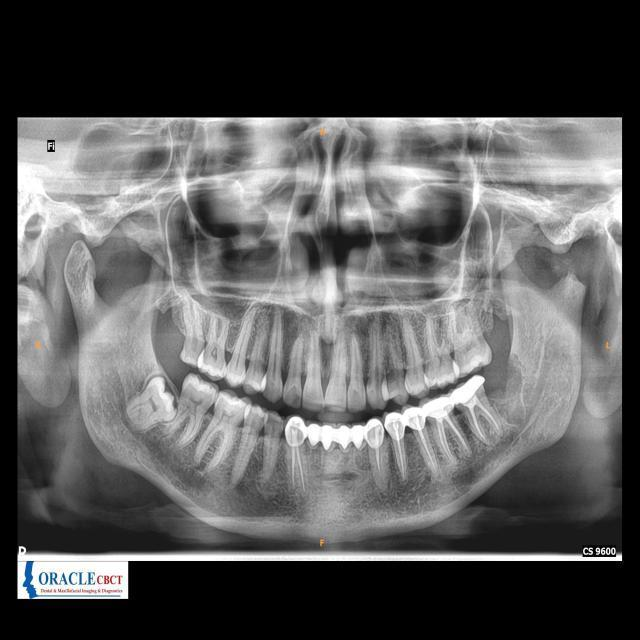dentin-curugu: (384, 364, 402, 392)
kanal-tedavisi: (434, 417, 470, 462), (467, 404, 502, 447), (286, 438, 308, 491), (418, 432, 438, 473), (393, 437, 408, 481), (371, 445, 386, 482)
kaplama: (448, 368, 494, 413), (424, 394, 457, 420), (281, 415, 309, 444), (382, 409, 406, 442), (405, 404, 427, 434), (368, 417, 387, 450)
kopru: (299, 421, 375, 452)
